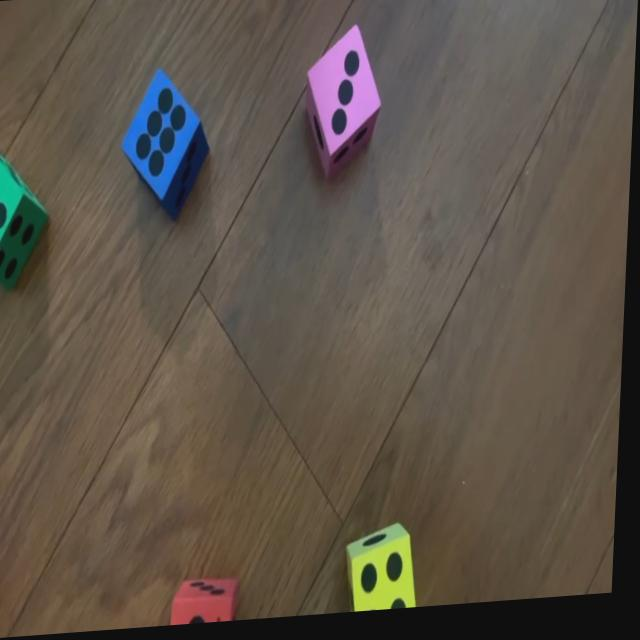cube: (119, 68, 213, 228), (0, 145, 53, 289), (177, 572, 246, 628)
